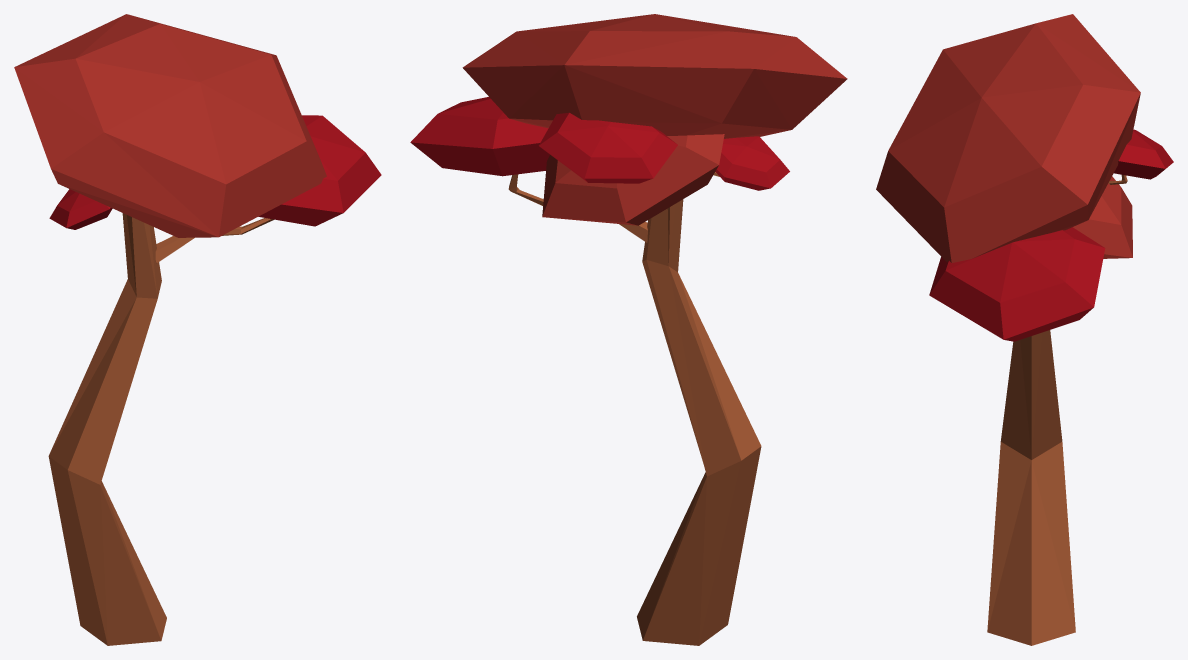
File: Tree B.FBX
3 renders of one model, left to right at view 1: azimuth 30°, elevation 25°; view 2: azimuth 150°, elevation 25°; view 3: azimuth 270°, elevation 25°, orthographic. The views are drawn at different scales.
Parts seen in each view (by area): view 1: Cylinder; view 2: Cylinder; view 3: Cylinder.
Part boxes in pixels (x1,y1,x2,y2): Cylinder: [14, 14, 381, 645]; Cylinder: [410, 14, 847, 645]; Cylinder: [876, 14, 1173, 645].
Bounding box in the file's own units: 8.89 × 13.72 × 6.4.
